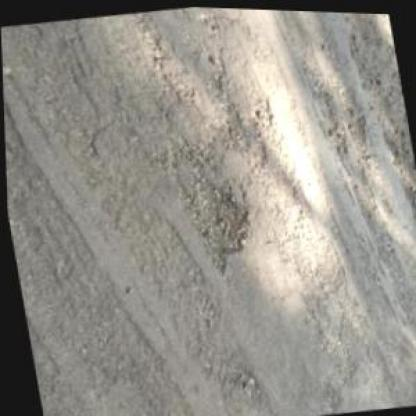pothole: (179, 170, 256, 278), (318, 97, 348, 154), (341, 92, 369, 150)
